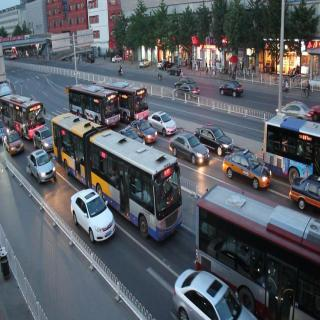BigCar: (61, 116, 182, 248), (202, 185, 310, 291), (266, 112, 320, 178), (62, 77, 121, 133), (105, 76, 131, 115)
Car: (174, 274, 248, 320), (66, 185, 113, 252), (22, 147, 64, 198)
